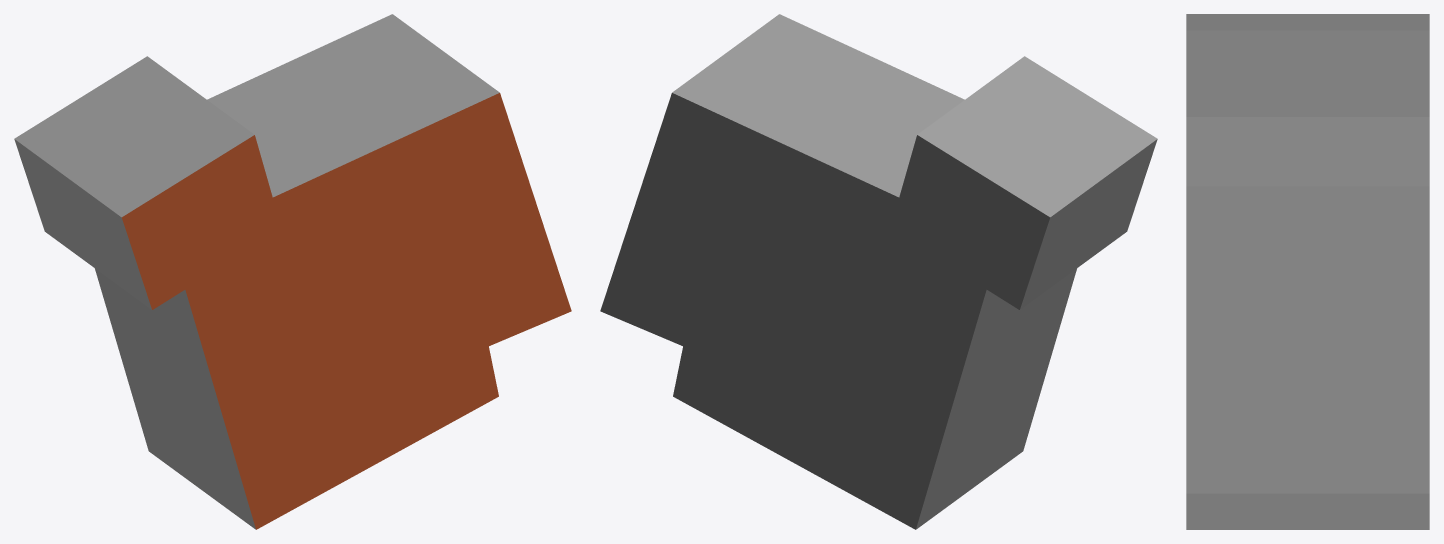
Rendered from construction_6913_assumed_A_Casa_h6m.obj.
3 renders of one model, left to right at view 1: azimuth 30°, elevation 25°; view 2: azimuth 150°, elevation 25°; view 3: azimuth 270°, elevation 25°, orthographic. The views are drawn at different scales.
Visible parts, largest first — view 1: construction_6913_assumed_A_Casa; view 2: construction_6913_assumed_A_Casa; view 3: construction_6913_assumed_A_Casa.
Part boxes in pixels (<box>): construction_6913_assumed_A_Casa: <box>14,14,571,529</box>; construction_6913_assumed_A_Casa: <box>600,14,1157,529</box>; construction_6913_assumed_A_Casa: <box>1186,14,1429,529</box>.
Bounding box in the file's own units: 14.51 × 12.18 × 6.
